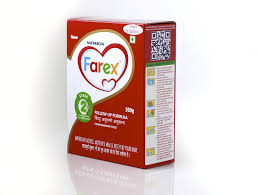qr_code: (150, 28, 173, 62)
